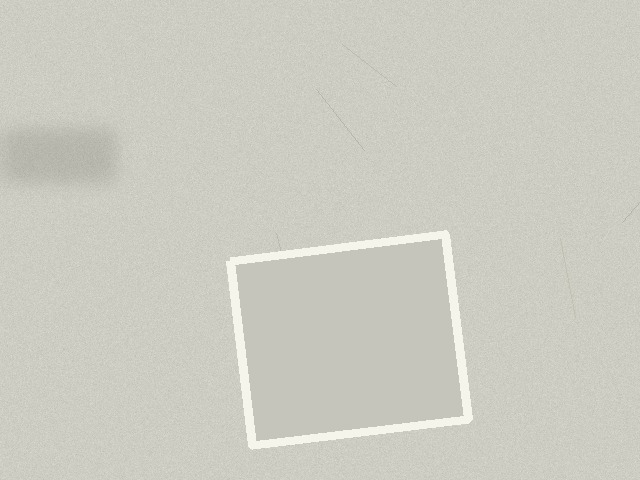parking_area: (230, 234, 468, 445)
